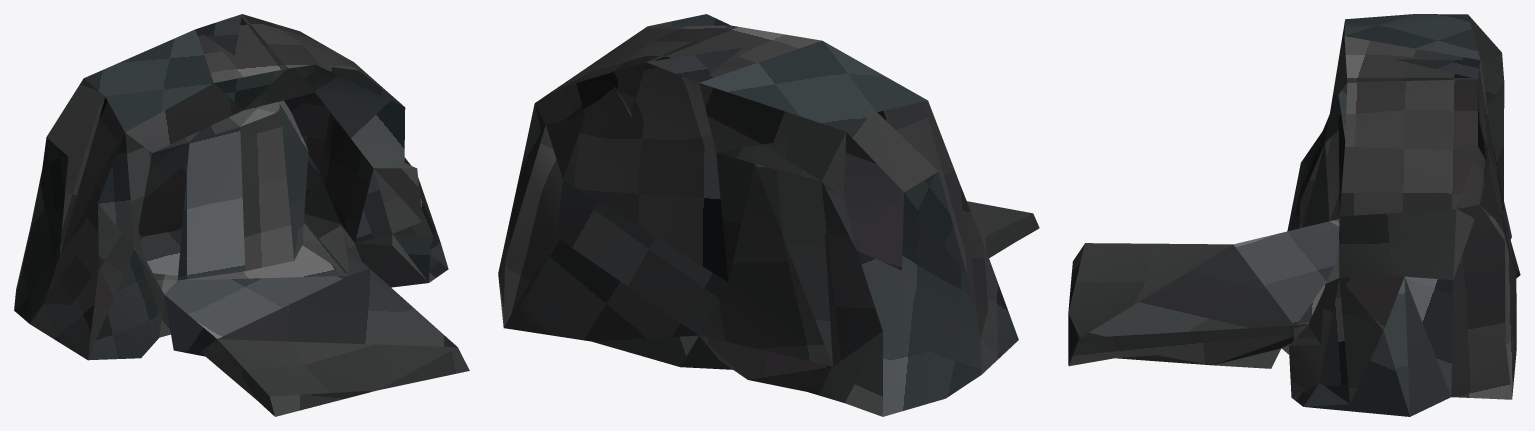
File: stunt-waterfall-portal.collision.glb
3 views of the same model, side by side, from view 1: azimuth 30°, elevation 25°; view 2: azimuth 150°, elevation 25°; view 3: azimuth 270°, elevation 25° (orthographic). The views are drawn at different scales.
Parts seen in each view (by area): view 1: output_unwrapped; view 2: output_unwrapped; view 3: output_unwrapped.
Boxes of the visible parts, left/top/right/bottom form: output_unwrapped: left=14, top=14, right=469, bottom=416; output_unwrapped: left=498, top=14, right=1039, bottom=416; output_unwrapped: left=1068, top=14, right=1520, bottom=416.
Bounding box in the file's own units: 1.84 × 1.07 × 1.66.
1 material, 1 textured.
